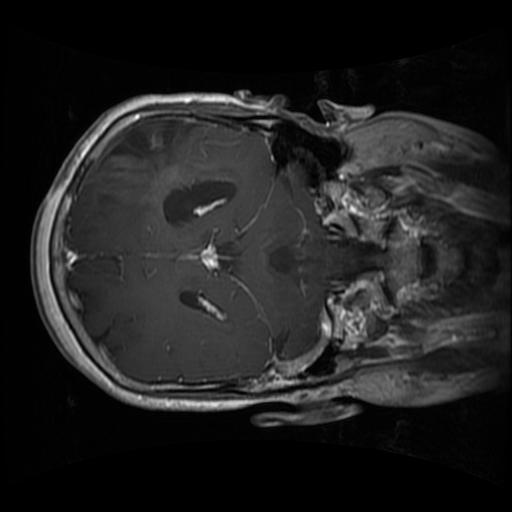glioma: (85, 114, 236, 231)
